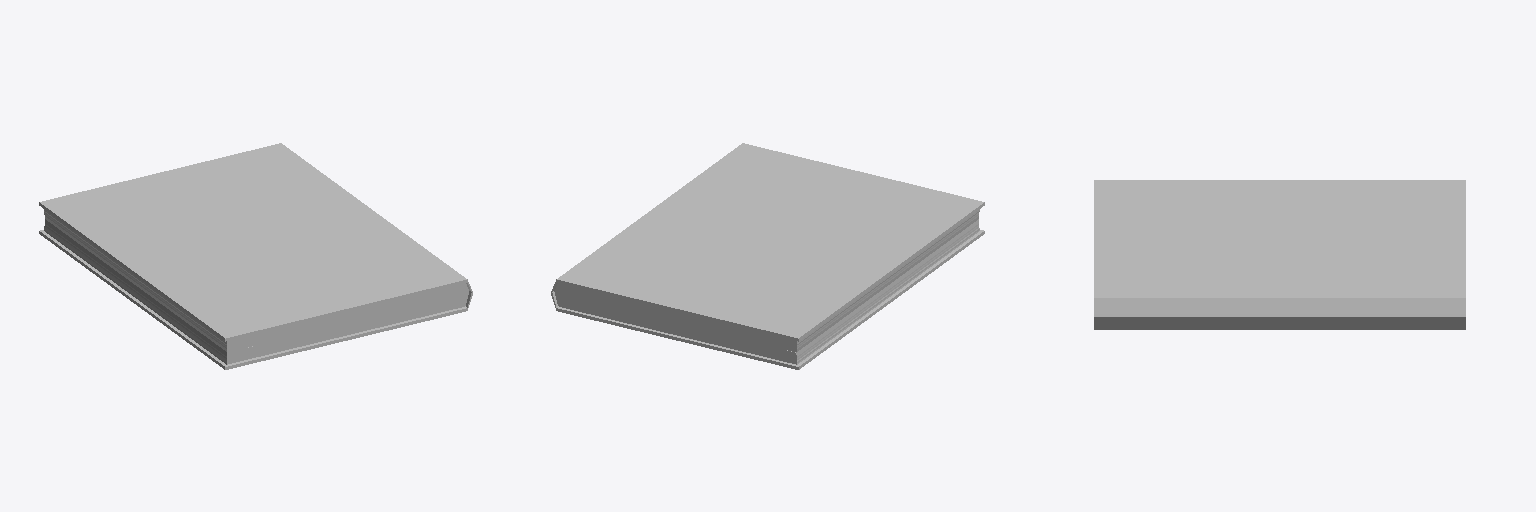
File: closedbook.obj
3 renders of one model, left to right at view 1: azimuth 30°, elevation 25°; view 2: azimuth 150°, elevation 25°; view 3: azimuth 270°, elevation 25°, orthographic.
Parts seen in each view (by area): view 1: Plane.007, Plane.004, Plane.006, Plane.003; view 2: Plane.007, Plane.004, Plane.006, Plane.003; view 3: Plane.007, Plane.003.
Part boxes in pixels (left/top/right/bottom): Plane.007: left=39, top=143, right=472, bottom=341; Plane.004: left=44, top=219, right=468, bottom=364; Plane.006: left=44, top=209, right=468, bottom=352; Plane.003: left=39, top=230, right=472, bottom=369; Plane.007: left=551, top=143, right=984, bottom=341; Plane.004: left=555, top=219, right=979, bottom=364; Plane.006: left=554, top=209, right=979, bottom=352; Plane.003: left=551, top=230, right=984, bottom=369; Plane.007: left=1094, top=180, right=1465, bottom=316; Plane.003: left=1094, top=317, right=1465, bottom=329.
Size of the model in its own units: 4.62 by 0.5666 by 6.03.